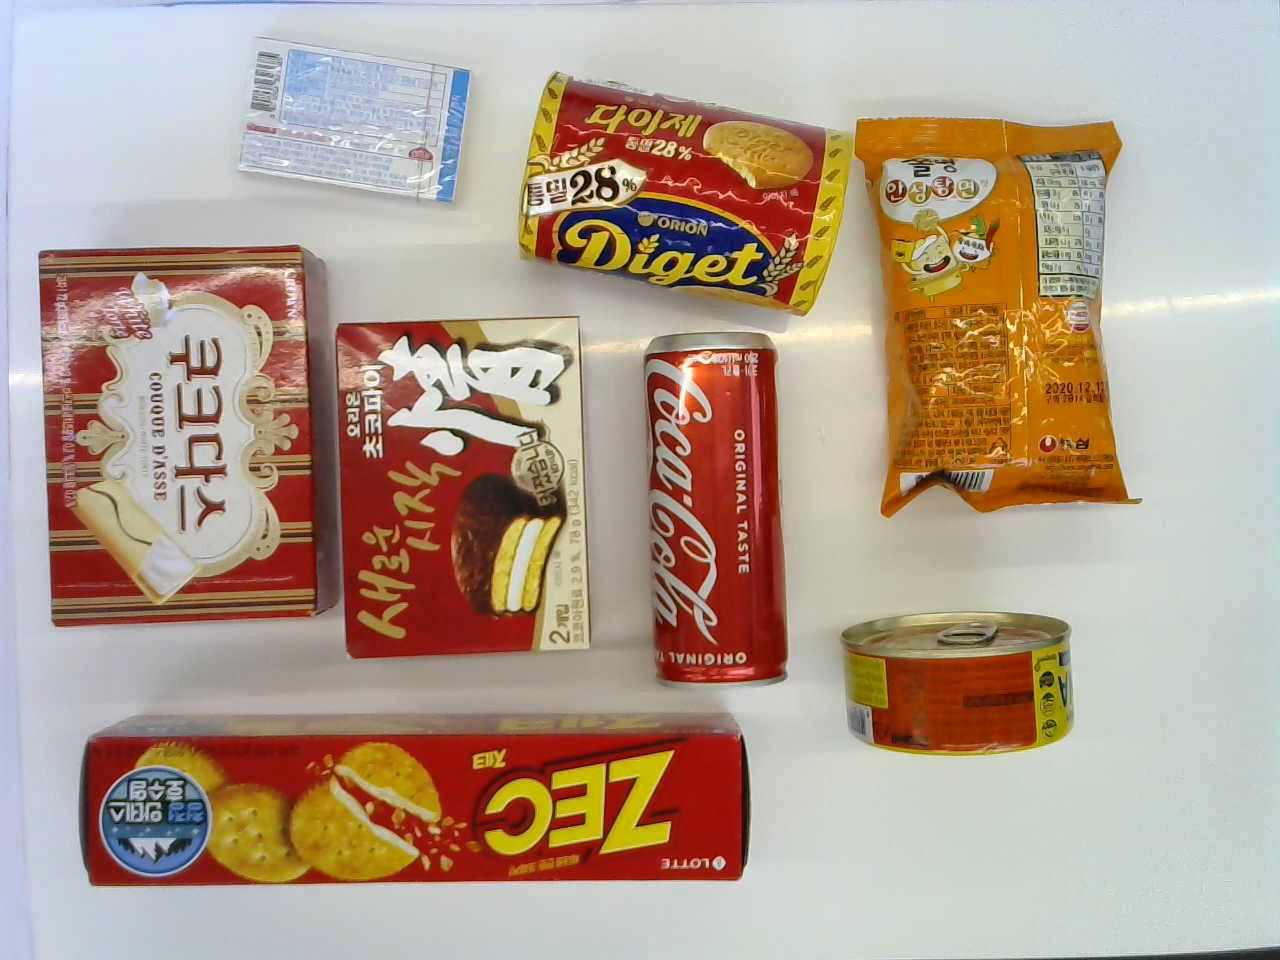ID_gum: (236, 28, 470, 212)
chocopie: (330, 306, 597, 663)
coke: (622, 329, 802, 693)
couque_white: (25, 229, 337, 640)
diget_ori: (512, 73, 850, 313)
jjolbyung_noodle: (855, 105, 1122, 510)
tuna: (837, 588, 1070, 768)
zec: (70, 710, 754, 905)
